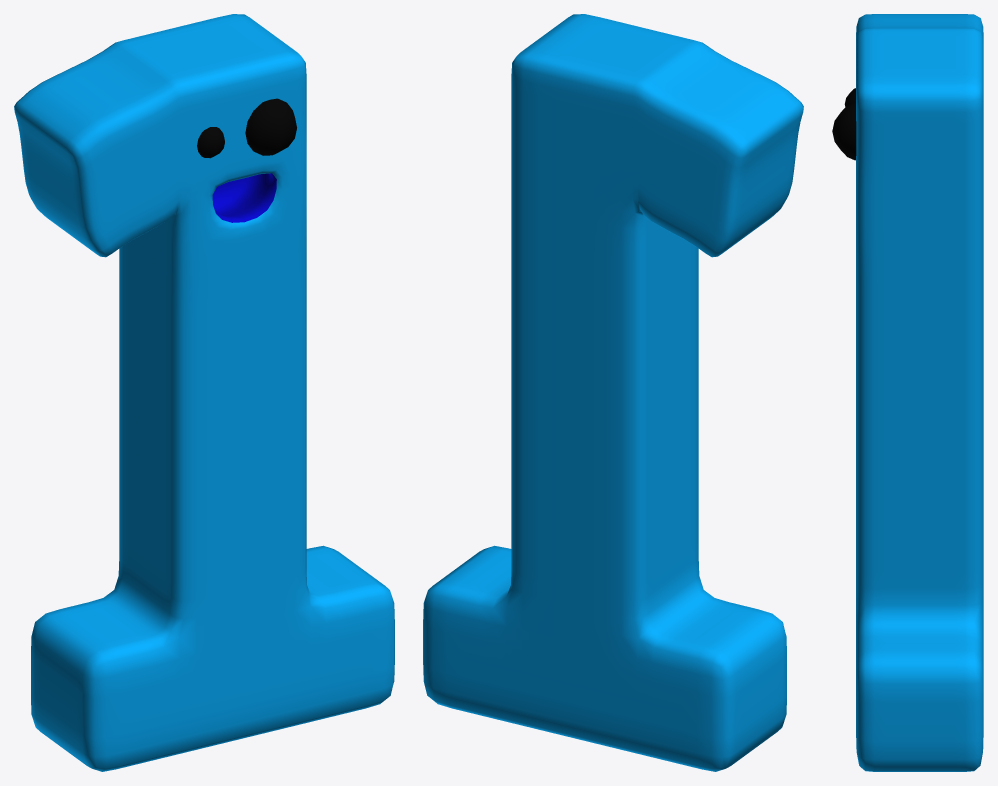
Rendered from number_one_character.glb.
The picture shows the model from 3 angles, left to right: view 1: azimuth 30°, elevation 25°; view 2: azimuth 150°, elevation 25°; view 3: azimuth 270°, elevation 25°; orthographic projection. The views are drawn at different scales.
Visible parts, largest first — view 1: Cube_0, Sphere.001_2, Sphere_1; view 2: Cube_0; view 3: Cube_0, Sphere.001_2.
Boxes of the visible parts, x1,y1,x2,y2 form: Cube_0: (14,14,394,771); Sphere.001_2: (245,98,296,155); Sphere_1: (197,127,224,158); Cube_0: (423,14,803,771); Cube_0: (856,14,983,771); Sphere.001_2: (832,102,856,160).
Bounding box in the file's own units: 0.7397 × 1.47 × 0.3109.
